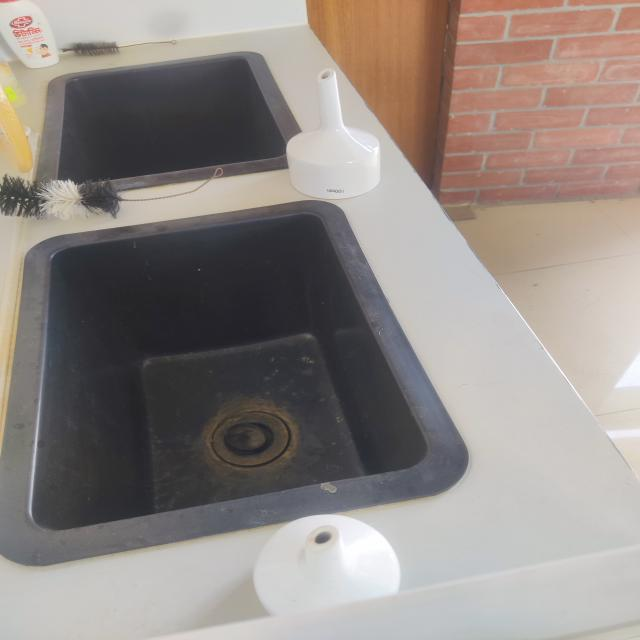Buchner_Funnel: (197, 491, 458, 632), (239, 42, 422, 217)
